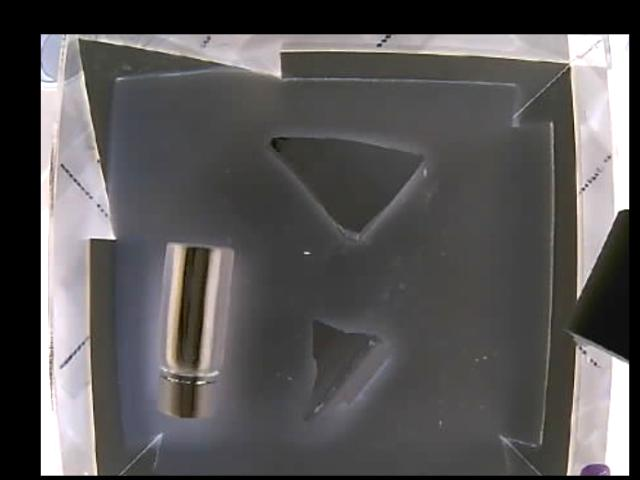Bottle: (158, 243, 232, 420)
China: (265, 136, 419, 235), (300, 314, 384, 423)
